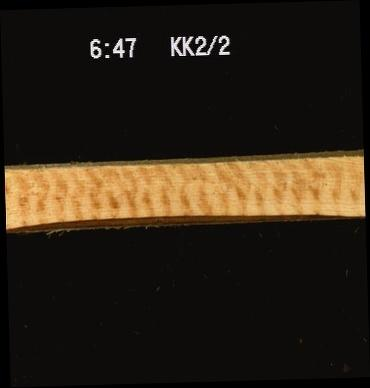wave: (5, 213, 365, 227)
